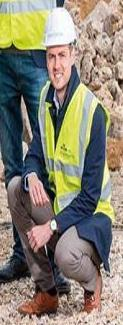hat: (33, 1, 89, 64)
vest: (30, 74, 120, 246), (1, 1, 79, 63)
